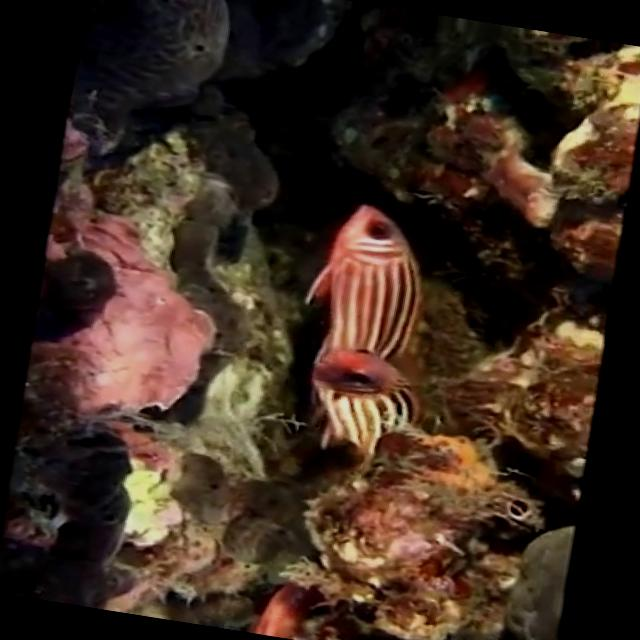Asker Baligi: (276, 196, 454, 480)
